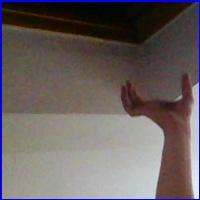space: (120, 73, 196, 138)
